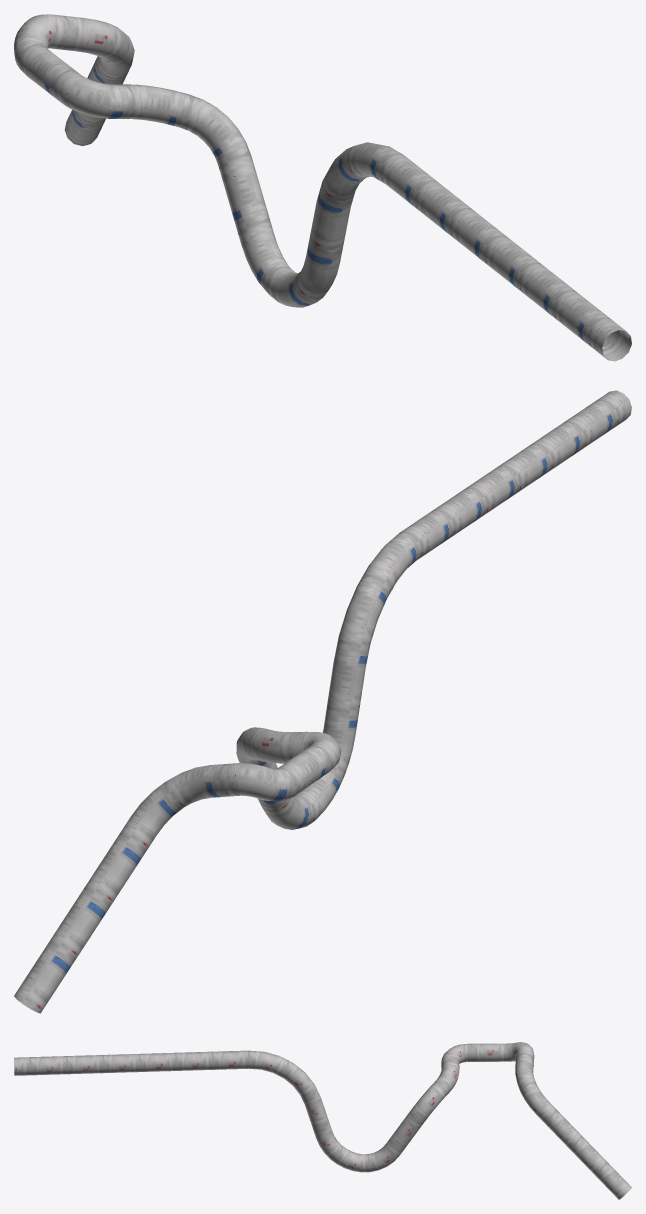
The model's file is Pipe__7.fbx.
3 renders of one model, top to bottom at view 1: azimuth 30°, elevation 25°; view 2: azimuth 150°, elevation 25°; view 3: azimuth 270°, elevation 25°, orthographic. The views are drawn at different scales.
Visible parts, largest first — view 1: MAT_Pipe_01; view 2: MAT_Pipe_01; view 3: MAT_Pipe_01.
Part boxes in pixels (<box>): MAT_Pipe_01: <box>14,14,631,361</box>; MAT_Pipe_01: <box>14,390,631,1013</box>; MAT_Pipe_01: <box>14,1042,631,1199</box>.
Size of the model in its own units: 6.3 by 8.28 by 33.89.
1 material, 1 textured.
